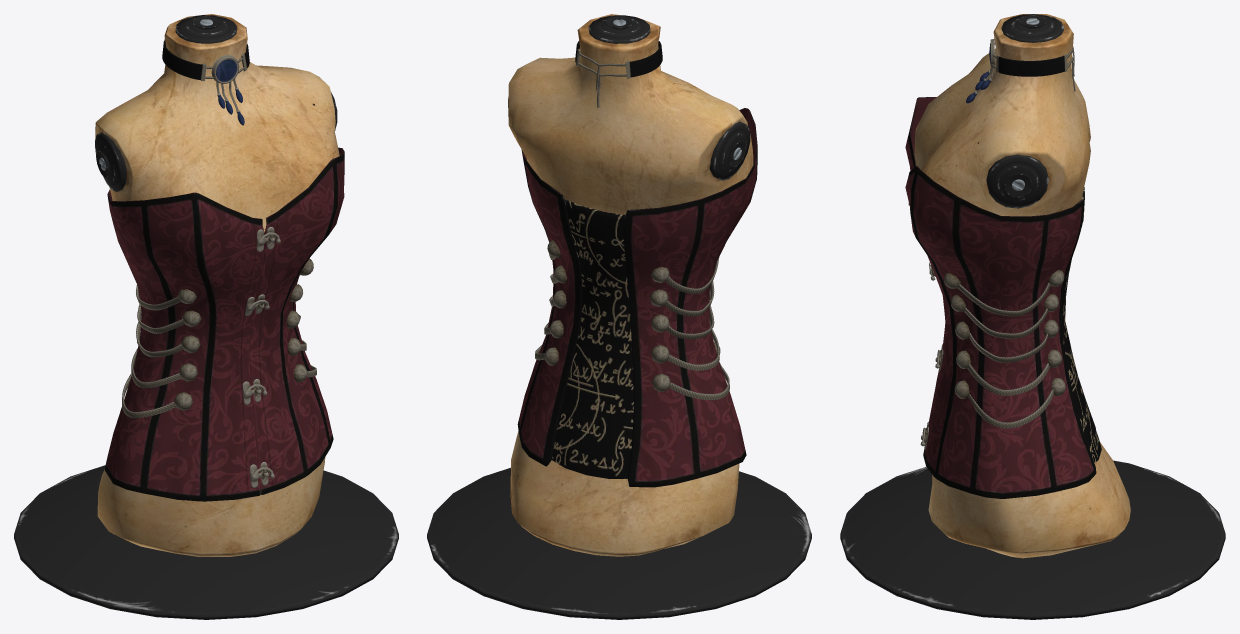
The picture shows the model from 3 angles, left to right: view 1: azimuth 30°, elevation 25°; view 2: azimuth 150°, elevation 25°; view 3: azimuth 270°, elevation 25°; orthographic projection.
Visible parts, largest first — view 1: Corset; view 2: Corset; view 3: Corset.
Part boxes in pixels (<box>): Corset: <box>14,14,398,619</box>; Corset: <box>427,14,811,619</box>; Corset: <box>840,14,1225,619</box>.
Size of the model in its own units: 0.0389 by 0.0578 by 0.0389.
Materials: 1 (1 with a texture image).
